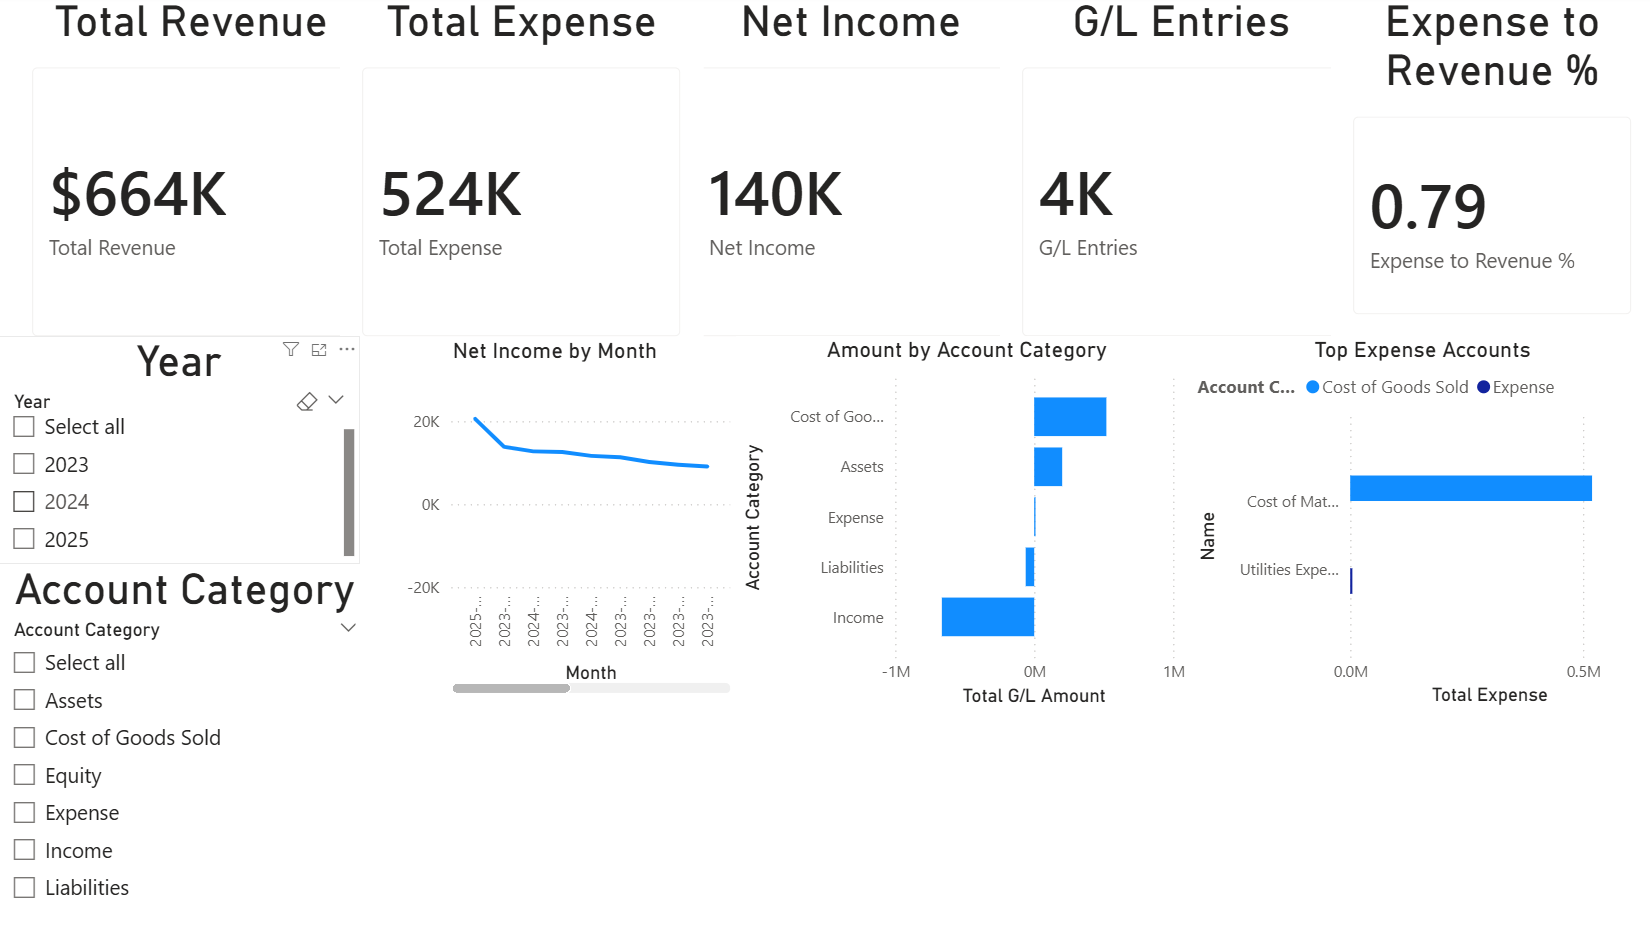

What the dashboard file says about the page in this screenshot:
{"tool":"powerbi","page":{"name":"Finance Overview","canvas":[1280,720],"ordinal":0},"visuals":[{"type":"cardVisual","title":"Total Revenue","fields":{"Data":["Measure.Total Revenue (Abs)"]},"box":[10,0,280,280],"z":0},{"type":"cardVisual","title":"Net Income","fields":{"Data":["Measure.Net Income (Abs)"]},"box":[520.2,0,279.7,280.7],"z":1},{"type":"cardVisual","title":"G/L Entries","fields":{"Data":["Measure.G/L Entry Count"]},"box":[774.7,0,280.7,280.7],"z":2},{"type":"cardVisual","title":"Total Expense","fields":{"Data":["Measure.Total Expense (Abs)"]},"box":[264.8,0,280.7,280.7],"z":3},{"type":"cardVisual","title":"Expense to Revenue %","fields":{"Data":["Measure.Expense to Revenue %"]},"box":[1030.2,0,249.8,263.3],"z":4},{"type":"lineChart","title":"Net Income by Month","fields":{"Category":["Date.Year-Month"],"Y":["Measure.Net Income (Abs)"]},"box":[290.1,263.2,281.2,280.3],"z":5},{"type":"clusteredBarChart","title":"Amount by Account Category","fields":{"Category":["G/L Account.Account Category"],"Y":["Measure.Total G/L Amount"]},"box":[571,262.8,356.7,290.5],"z":6},{"type":"clusteredBarChart","title":"Top Expense Accounts","fields":{"Category":["G/L Account.Name"],"Y":["Measure.Total Expense (Abs)"],"Series":["G/L Account.Account Category"]},"box":[922.2,262.8,357.8,290.5],"z":7},{"type":"slicer","title":"Year","fields":{"Values":["Date.Year"]},"box":[0,262.8,280.5,175.6],"z":8},{"type":"slicer","title":"Account Category","fields":{"Values":["G/L Account.Account Category"]},"box":[0,438.4,290.5,281.6],"z":9}]}

Visuals, with their boxes in screenshot pixels (x1, y1, x2, y2), scaled from the page's 1280x720 canvas onto the 1650x926 screenshot:
"Total Revenue" cardVisual: (13,0,374,360)
"Net Income" cardVisual: (671,0,1031,361)
"G/L Entries" cardVisual: (999,0,1360,361)
"Total Expense" cardVisual: (341,0,703,361)
"Expense to Revenue %" cardVisual: (1328,0,1649,339)
"Net Income by Month" lineChart: (374,339,736,699)
"Amount by Account Category" clusteredBarChart: (736,338,1196,712)
"Top Expense Accounts" clusteredBarChart: (1189,338,1649,712)
"Year" slicer: (0,338,362,564)
"Account Category" slicer: (0,564,374,925)
